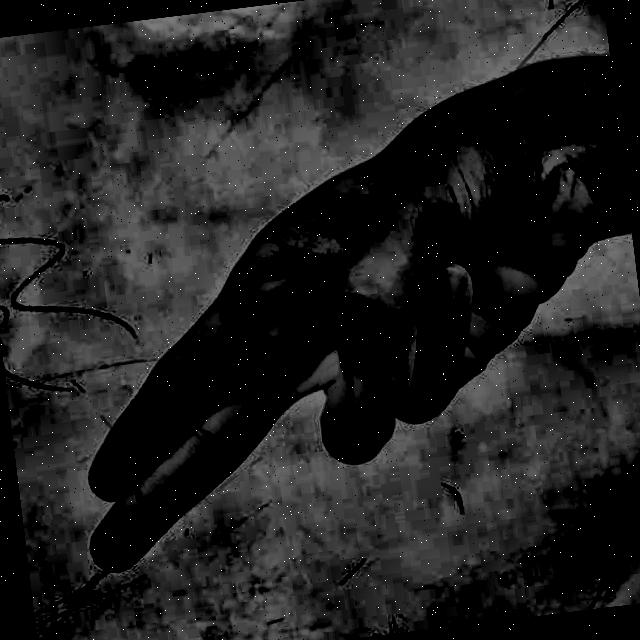Ha: (19, 60, 640, 640)
